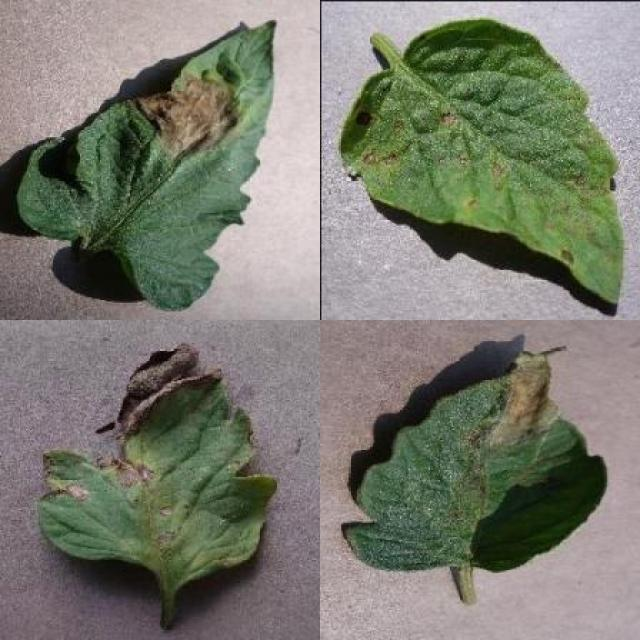Early Blight: (34, 341, 280, 586)
Late Blight: (17, 19, 277, 311), (340, 344, 610, 574)
Septoria: (339, 18, 624, 305)
